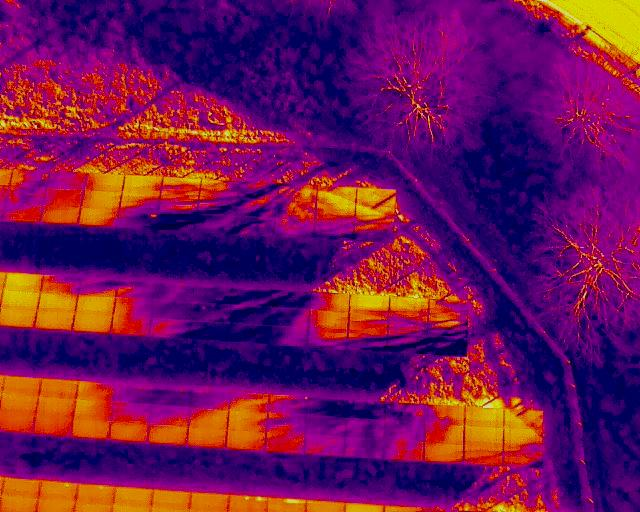Cell: (38, 482, 76, 500), (76, 485, 113, 503)
Cell-Multi: (228, 496, 266, 511)
No-Anomaly: (186, 427, 227, 447), (147, 425, 189, 444), (34, 415, 73, 435), (72, 419, 111, 439), (1, 376, 40, 396), (0, 411, 34, 433), (424, 443, 463, 462), (73, 314, 112, 333), (41, 205, 79, 224), (4, 272, 42, 291), (35, 311, 73, 330), (463, 426, 503, 444), (1, 479, 38, 498), (2, 290, 39, 309), (39, 293, 76, 312), (39, 379, 78, 397), (36, 397, 75, 415), (464, 408, 503, 426), (110, 422, 149, 440), (85, 173, 123, 191), (82, 190, 120, 208), (77, 295, 114, 313), (0, 308, 35, 327), (113, 488, 152, 505), (0, 395, 38, 412), (152, 491, 190, 508), (350, 296, 390, 312), (190, 493, 228, 509)
Shadowing: (228, 389, 270, 412), (275, 182, 318, 204), (274, 199, 317, 221), (354, 186, 396, 208), (272, 217, 314, 239), (150, 317, 192, 339), (197, 196, 239, 217), (152, 384, 192, 406), (267, 393, 308, 414), (111, 402, 152, 423), (225, 430, 266, 451), (304, 434, 345, 455), (314, 216, 355, 237), (192, 284, 233, 305), (152, 299, 193, 320), (191, 303, 232, 324), (191, 320, 232, 341), (387, 331, 428, 352), (236, 197, 279, 217), (354, 204, 396, 224), (230, 323, 272, 343), (77, 379, 115, 401), (383, 440, 424, 460), (198, 179, 239, 199), (231, 305, 272, 325), (271, 306, 310, 327), (74, 400, 114, 420), (266, 413, 306, 433), (265, 433, 305, 453), (344, 437, 384, 457), (354, 219, 394, 239), (153, 282, 193, 302), (232, 287, 272, 307), (388, 314, 428, 334), (427, 316, 467, 336), (384, 421, 426, 440), (315, 185, 357, 204), (313, 202, 357, 220), (191, 388, 230, 408), (44, 187, 83, 207), (343, 420, 384, 439), (308, 309, 349, 328), (307, 328, 348, 347), (306, 415, 346, 434), (463, 444, 503, 463), (78, 207, 118, 226), (271, 288, 311, 307), (347, 329, 387, 348), (148, 406, 190, 424), (114, 384, 153, 403), (188, 408, 229, 426), (227, 412, 268, 430), (238, 181, 279, 199), (308, 396, 346, 415), (10, 169, 48, 188), (42, 275, 80, 294), (116, 279, 154, 298), (270, 326, 308, 345), (345, 400, 385, 418), (161, 177, 201, 195), (159, 194, 199, 212), (428, 336, 465, 355), (425, 406, 464, 424), (504, 410, 543, 428), (504, 445, 543, 463), (310, 293, 349, 311), (348, 312, 389, 329), (47, 171, 85, 189), (4, 204, 42, 222), (80, 277, 116, 296), (386, 404, 426, 421), (120, 192, 160, 209), (111, 316, 151, 333), (425, 425, 464, 442), (114, 298, 153, 315), (429, 300, 468, 317), (6, 187, 44, 204), (389, 299, 429, 315), (504, 429, 543, 445), (122, 177, 161, 193)
